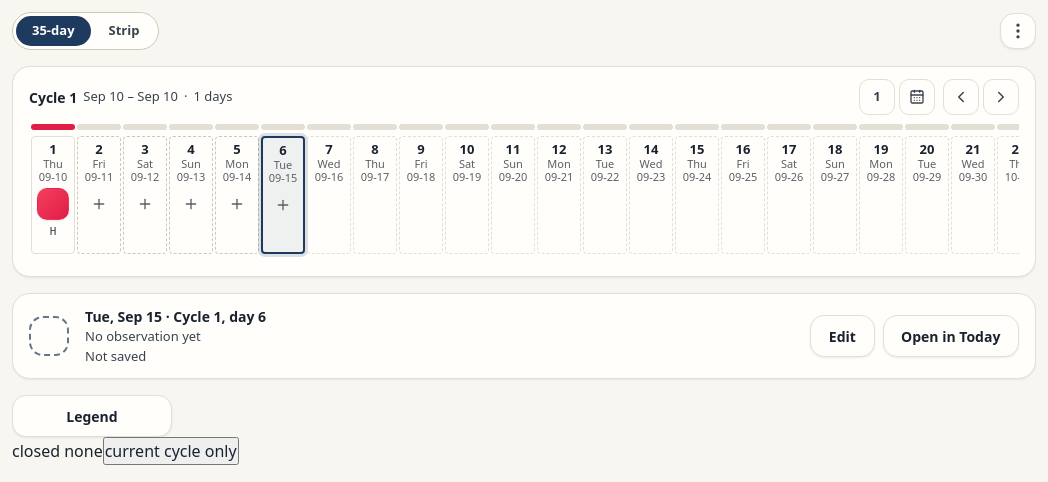
Test: ChartRow on a desktop › shows an empty day with the empty stamp and a draft for the sheet
The image size is (1048, 482).
Click the button with aria-label "Day 3 (2026-09-12) - Empty" at (145, 195), box 123,136 -> 167,254
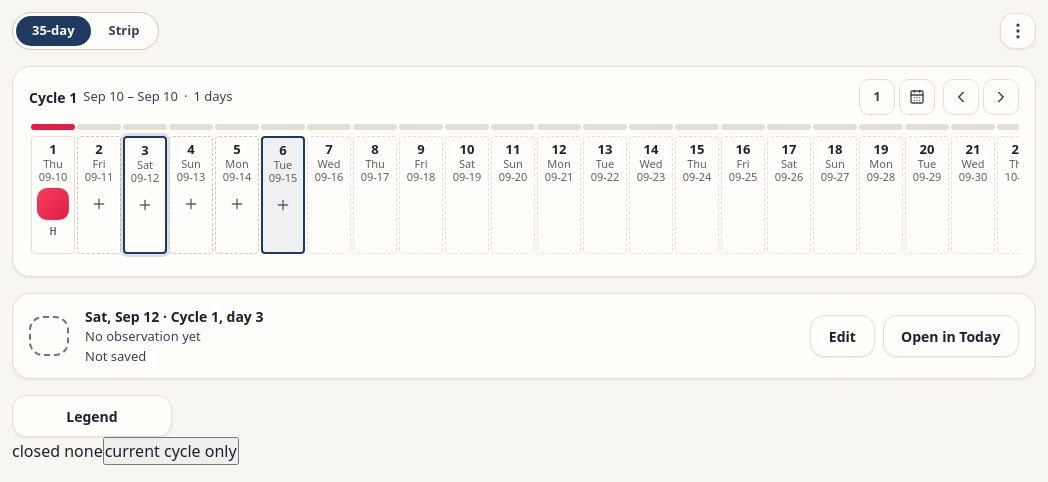
Expected: the text "No observation yet" is shown, 85,327 -> 201,345
Expected: the text "Not saved" is shown, 85,346 -> 146,364
Click the button "Edit" at (842, 336), box 810,315 -> 875,357
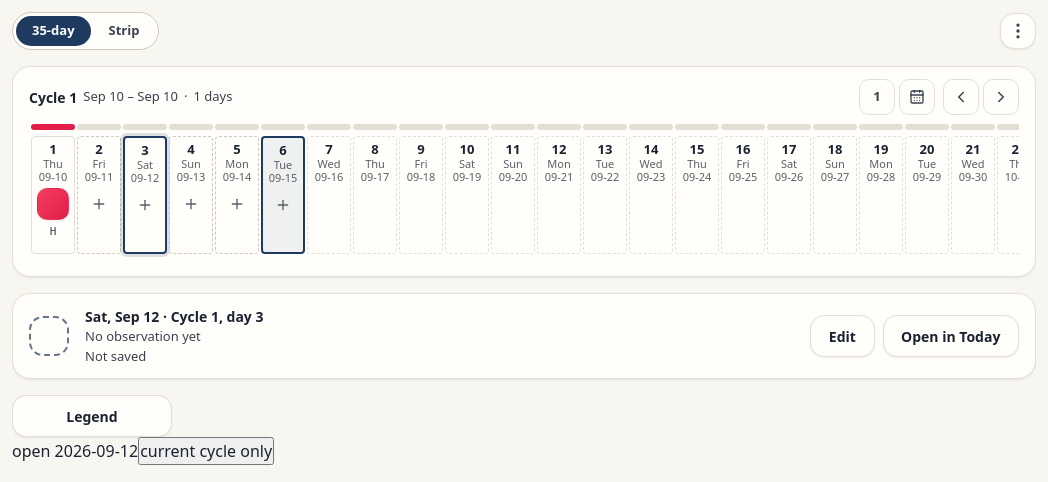
Expected: the text with test id "drawer" reads "open 2026-09-12", 12,440 -> 138,462
